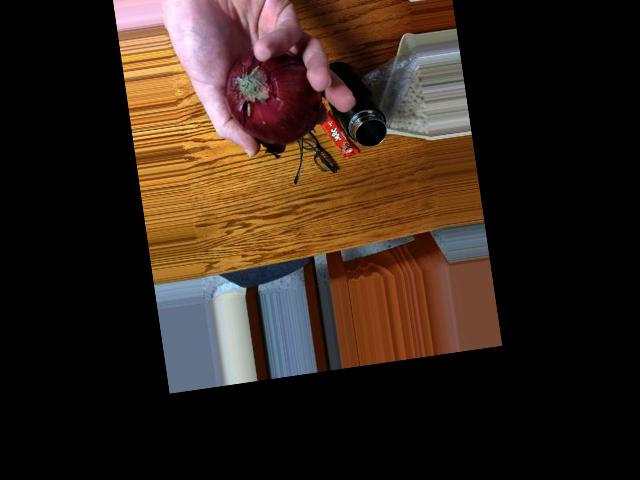onion: (220, 47, 319, 141)
